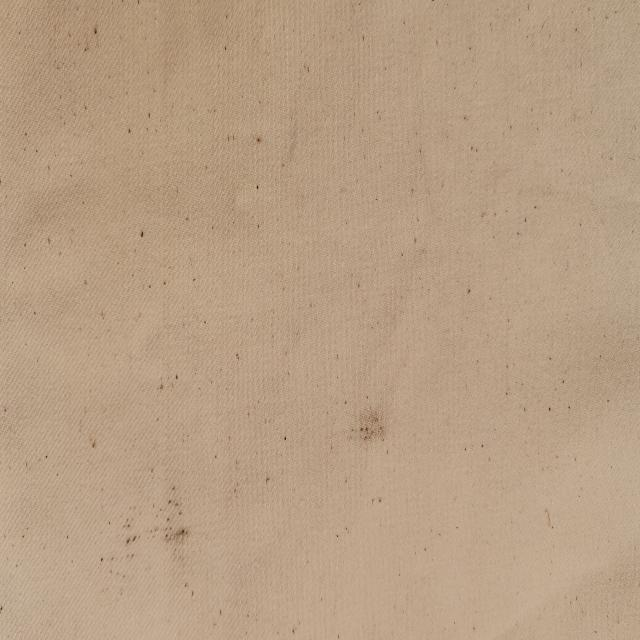taaaches: (355, 391, 390, 453), (160, 484, 190, 556), (121, 511, 142, 569)
